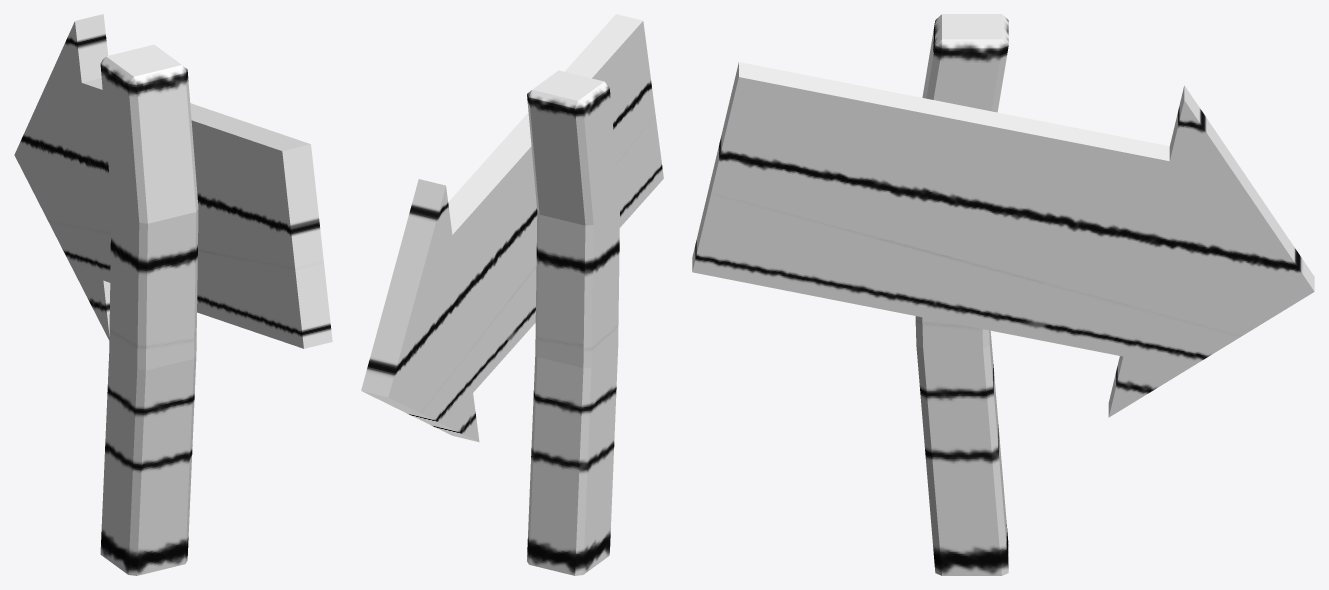
Rendered from Bord_pijl.fbx.
3 renders of one model, left to right at view 1: azimuth 30°, elevation 25°; view 2: azimuth 150°, elevation 25°; view 3: azimuth 270°, elevation 25°, orthographic. The views are drawn at different scales.
Visible parts, largest first — view 1: Bord pijl; view 2: Bord pijl; view 3: Bord pijl.
Boxes of the visible parts, box(x1,y1,x2,y2) form: Bord pijl: box(14, 14, 332, 575); Bord pijl: box(361, 14, 663, 575); Bord pijl: box(692, 14, 1314, 575).
Bounding box in the file's own units: 23.66 × 128 × 135.
1 material, 1 textured.
